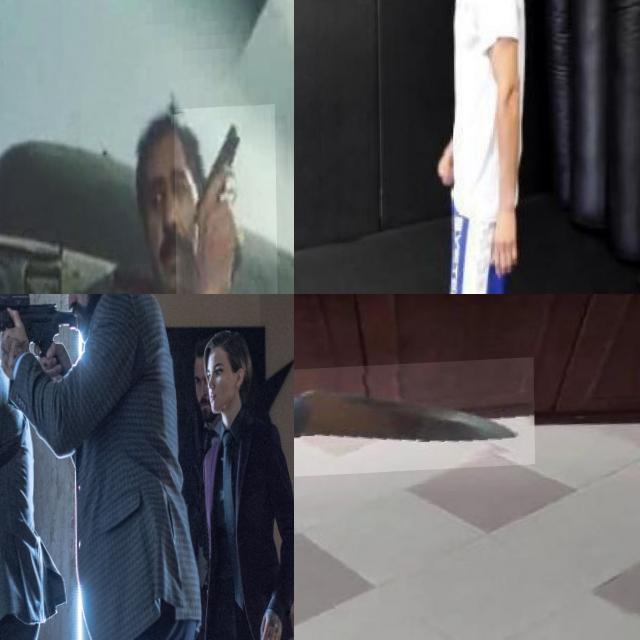-: (294, 362, 534, 481), (294, 253, 339, 294)
gun-knife-thesis - v11 Yolov5 augmented: (173, 108, 276, 294), (0, 294, 93, 375), (0, 355, 64, 460)
